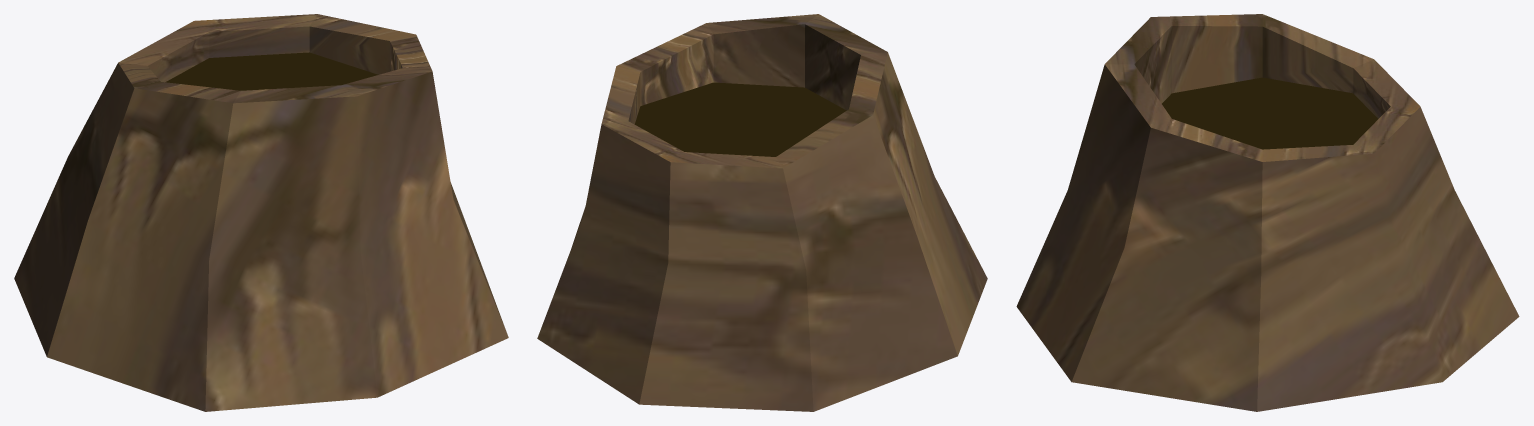
File: TroncoCotocoA.fbx
3 views of the same model, side by side, from view 1: azimuth 30°, elevation 25°; view 2: azimuth 150°, elevation 25°; view 3: azimuth 270°, elevation 25° (orthographic). The views are drawn at different scales.
Visible parts, largest first — view 1: pCylinder1; view 2: pCylinder1; view 3: pCylinder1.
Part boxes in pixels (bbox=[...]): pCylinder1: bbox=[14, 14, 508, 411]; pCylinder1: bbox=[537, 14, 987, 411]; pCylinder1: bbox=[1016, 14, 1519, 411].
Bounding box in the file's own units: 4.74 × 2.83 × 4.96.
2 materials, 1 textured.
